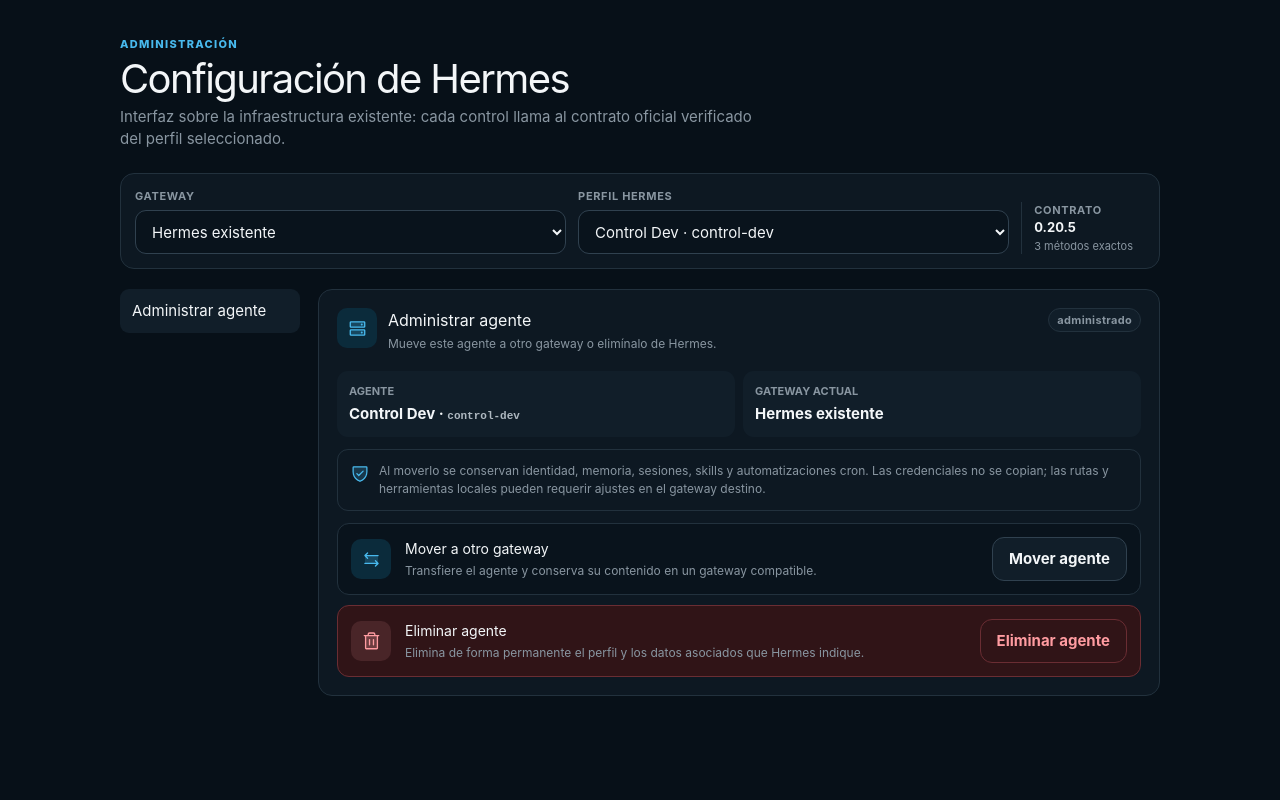
Test: administración de perfil guiada por capacidades › moves a profile only after exact confirmation and selects it on the destination gateway
Click the button "Administrar agente".
click(210, 311)  # box [120,289,300,333]
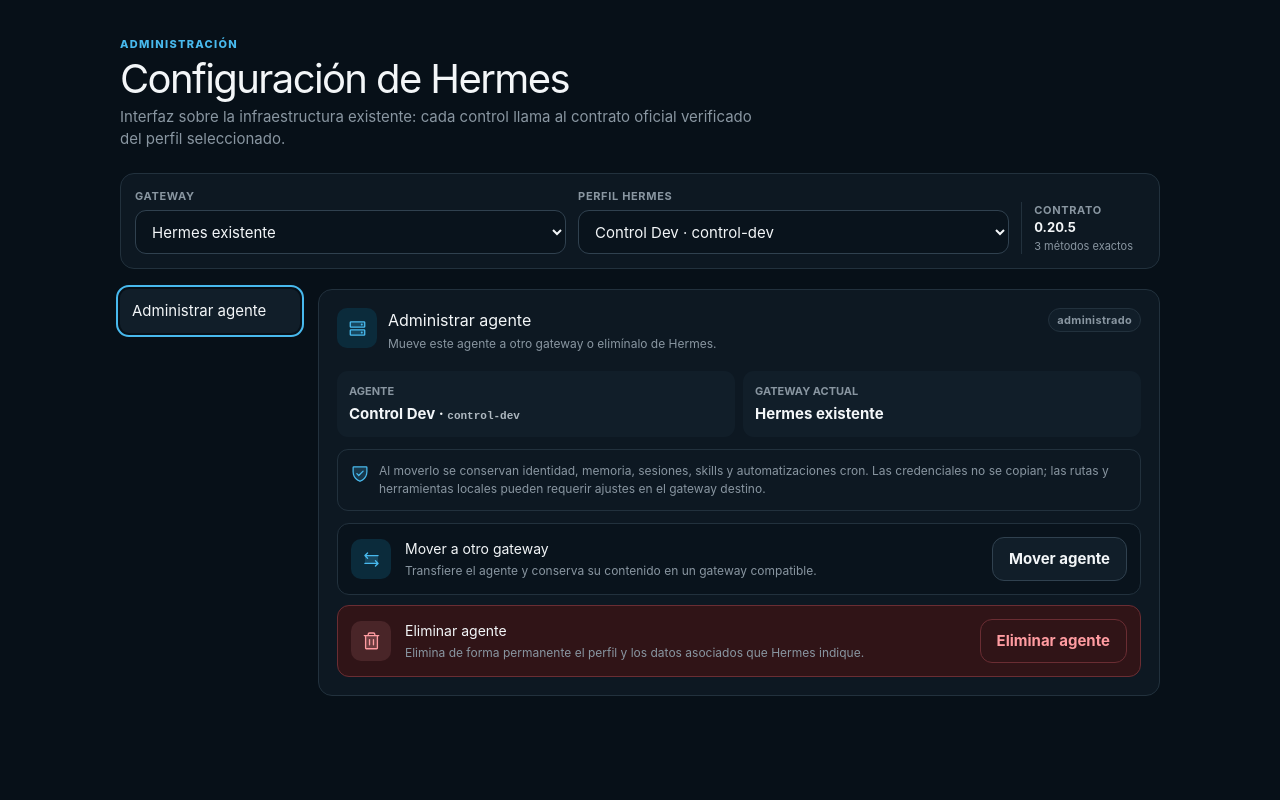
Expected: the text "Las credenciales no se copian" is shown, [379,463,1109,496]
Click the button "Mover agente".
click(1060, 559)  # box [992,537,1127,581]
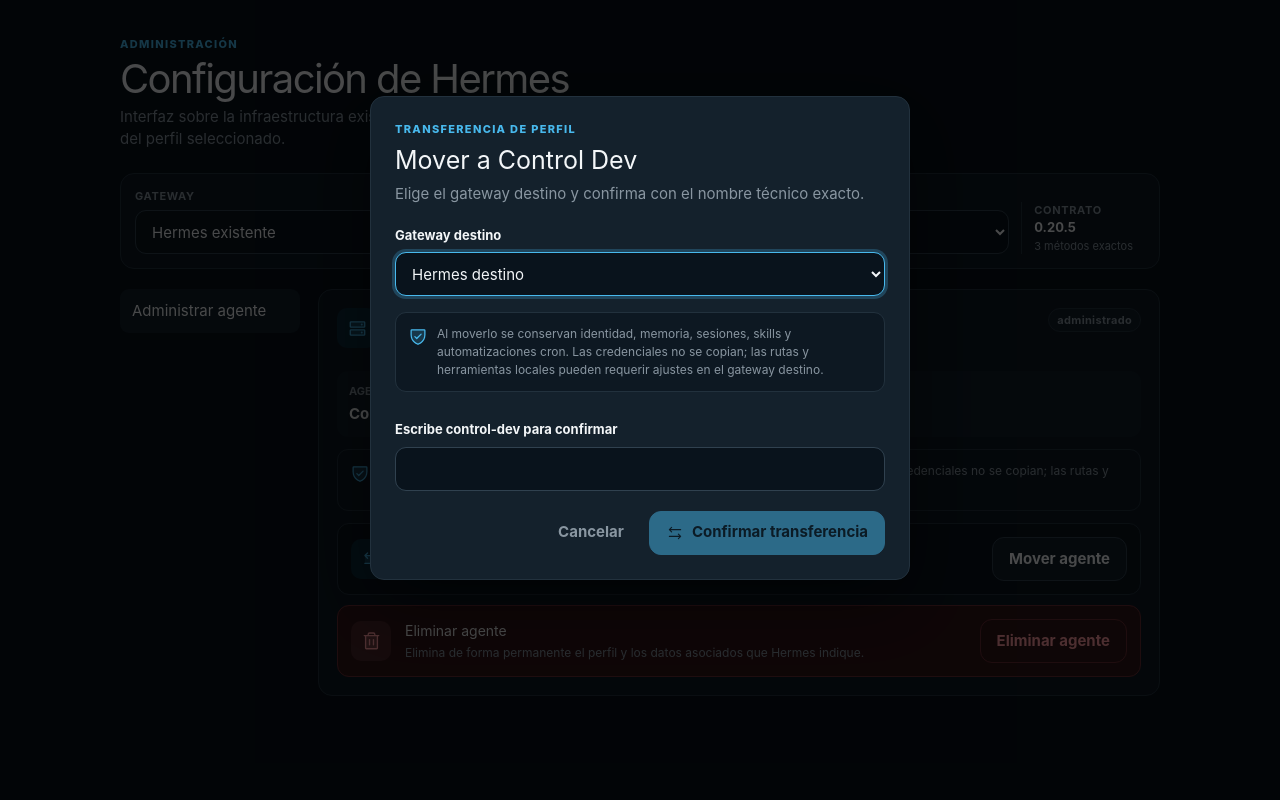
Result: the button "Confirmar transferencia" is disabled at [649,510,885,554]
Type "control-dev" into the field labelled "Escribe control-dev para confirmar".
click(640, 468); type("control-dev")  # box [395,446,885,490]
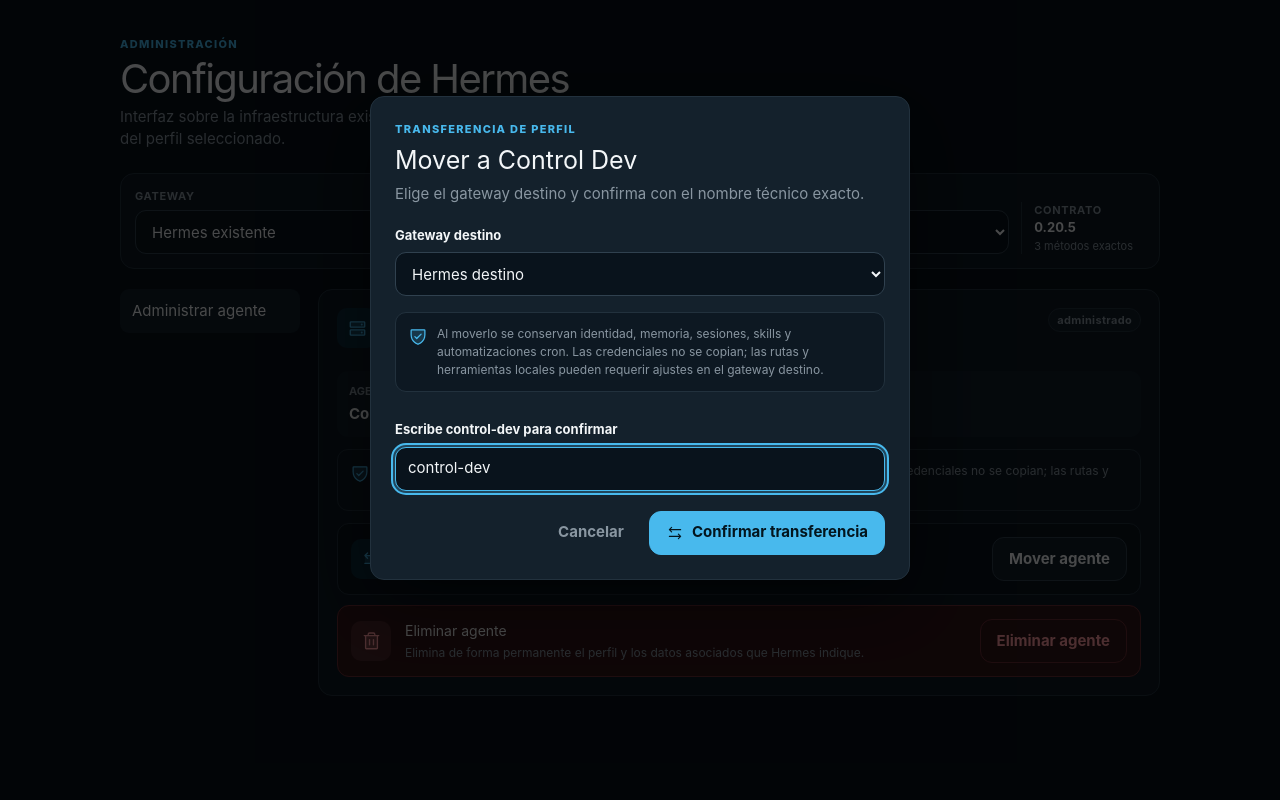
Click the button "Confirmar transferencia".
click(767, 532)  # box [649,510,885,554]
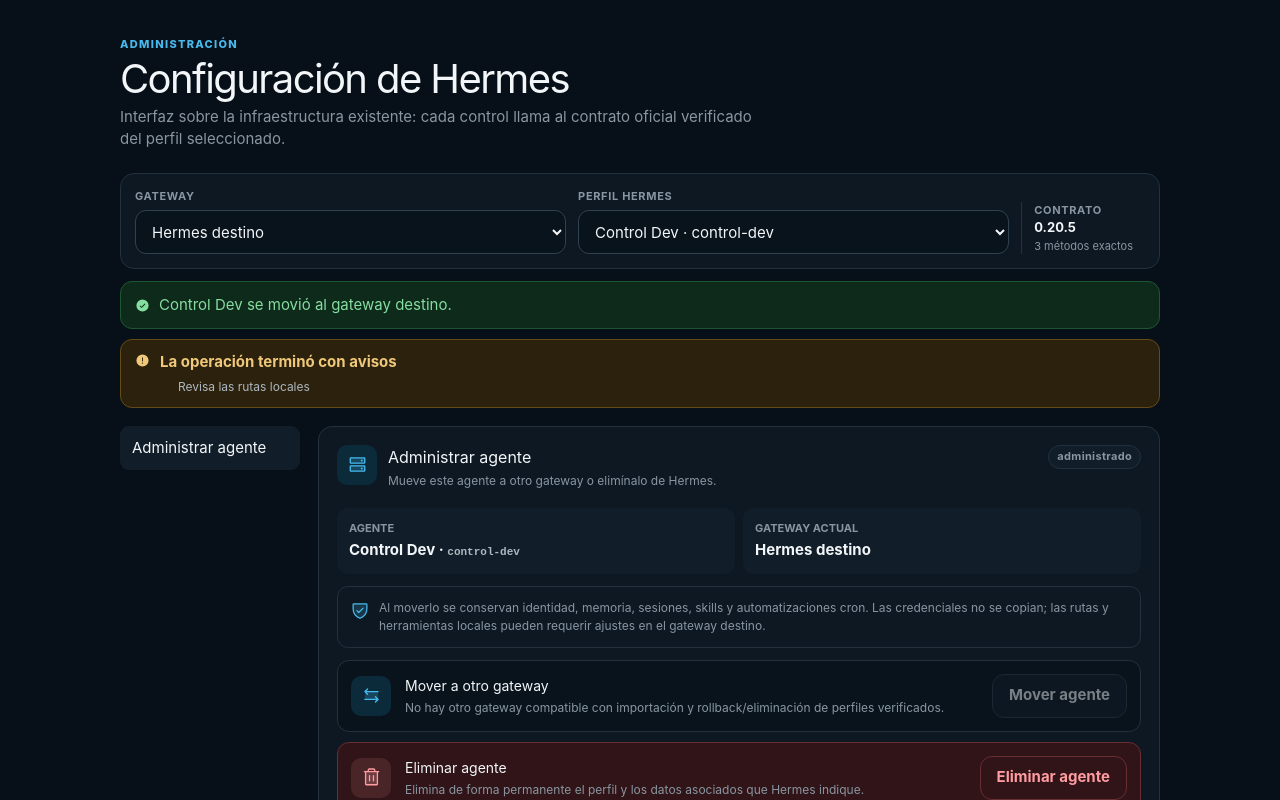
Result: the list item "Revisa las rutas locales" is shown at [178,378,310,394]
